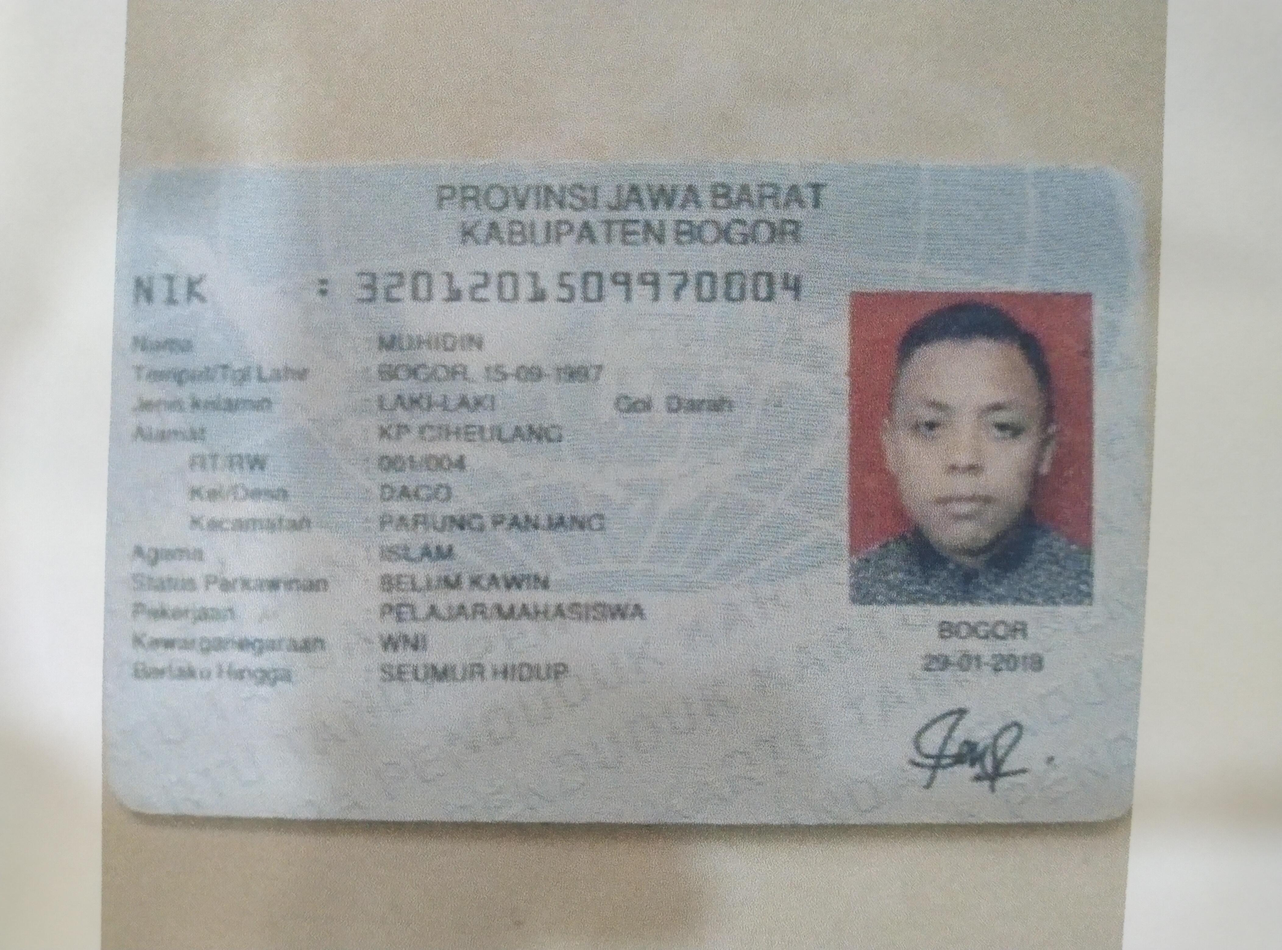ID-card: (118, 167, 1126, 803)
